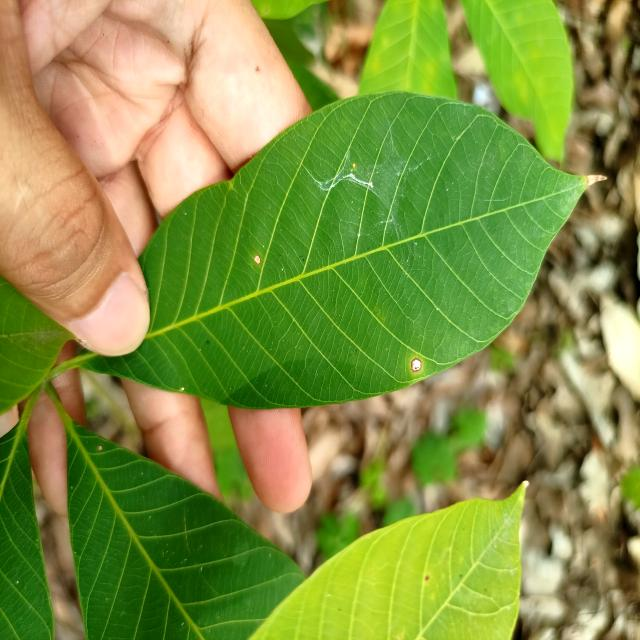Colletotrichum: (411, 358, 422, 372), (254, 254, 261, 265)
